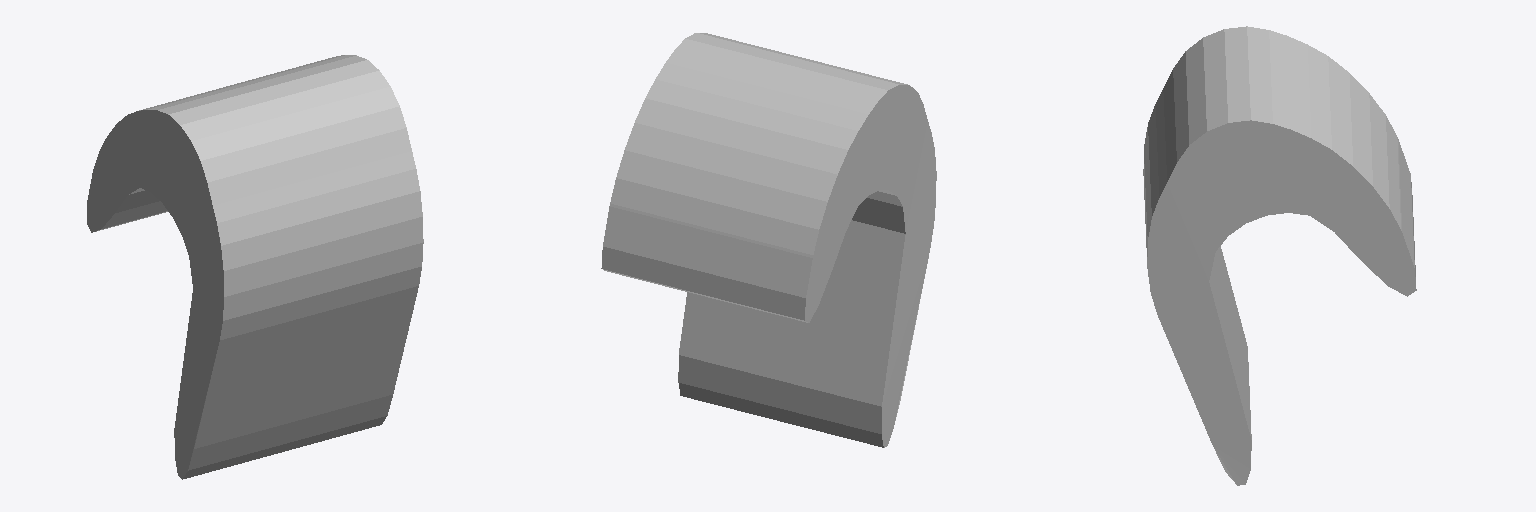
File: manoIzq.obj
3 views of the same model, side by side, from view 1: azimuth 30°, elevation 25°; view 2: azimuth 150°, elevation 25°; view 3: azimuth 270°, elevation 25° (orthographic).
Parts seen in each view (by area): view 1: manoIzqElRey_Mesh; view 2: manoIzqElRey_Mesh; view 3: manoIzqElRey_Mesh.
Part boxes in pixels (x1,y1,x2,y2): manoIzqElRey_Mesh: (87,55,423,479); manoIzqElRey_Mesh: (601,33,936,447); manoIzqElRey_Mesh: (1143,26,1416,485).
Size of the model in its own units: 0.5192 by 0.8688 by 0.5872.